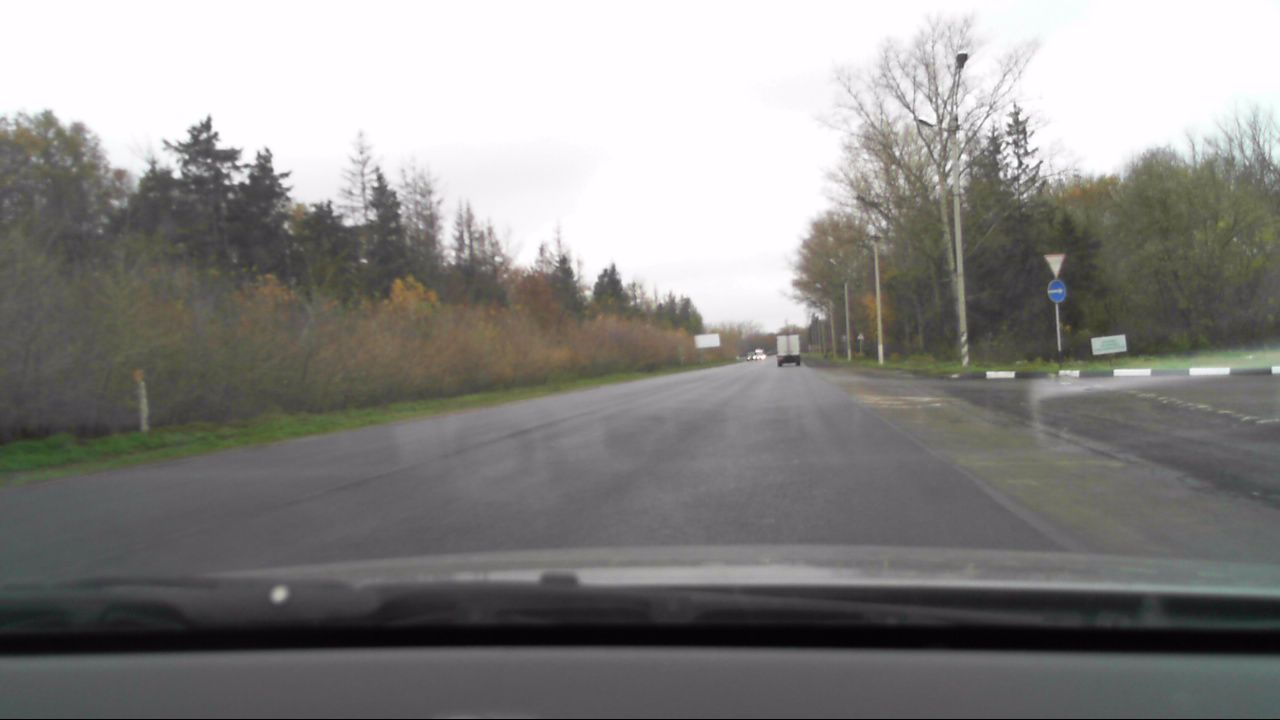Turn Right: (1047, 280, 1066, 302)
